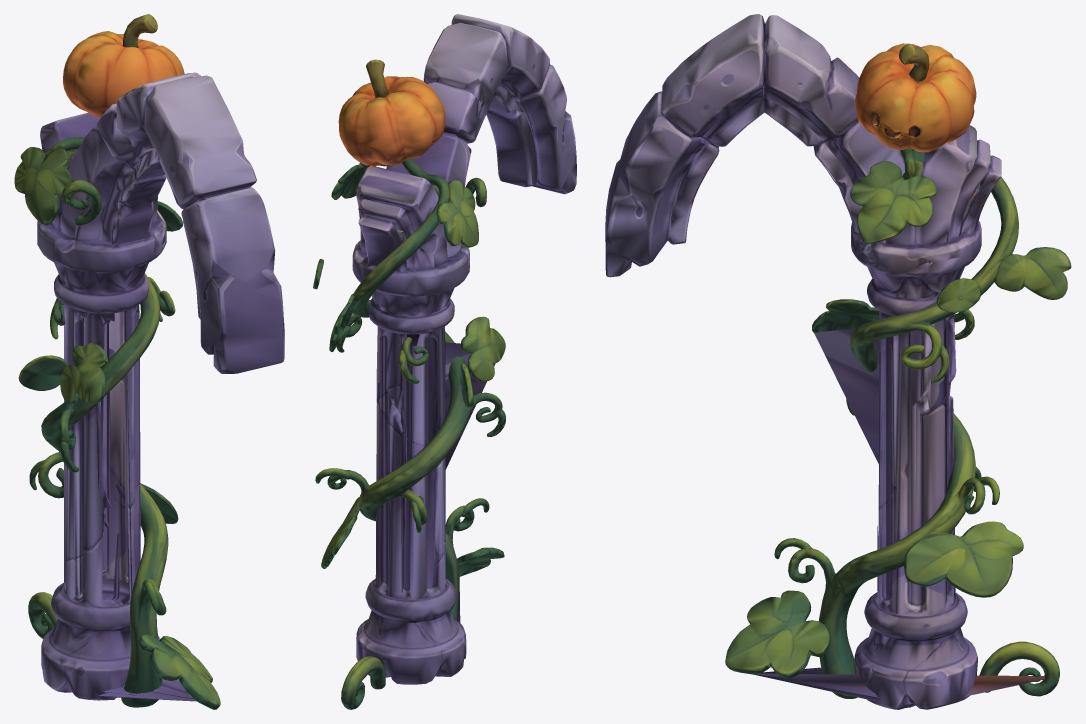
File: L1_ArchColumn_LOD0.fbx
The picture shows the model from 3 angles, left to right: view 1: azimuth 30°, elevation 25°; view 2: azimuth 150°, elevation 25°; view 3: azimuth 270°, elevation 25°; orthographic projection. The views are drawn at different scales.
Visible parts, largest first — view 1: L1_ArchColumn_LOD0; view 2: L1_ArchColumn_LOD0; view 3: L1_ArchColumn_LOD0.
Boxes of the visible parts, left/top/right/bottom form: L1_ArchColumn_LOD0: left=14, top=14, right=284, bottom=709; L1_ArchColumn_LOD0: left=313, top=14, right=576, bottom=709; L1_ArchColumn_LOD0: left=605, top=14, right=1071, bottom=709.
Bounding box in the file's own units: 2 × 7.5 × 4.73.
Materials: 1 (1 with a texture image).
